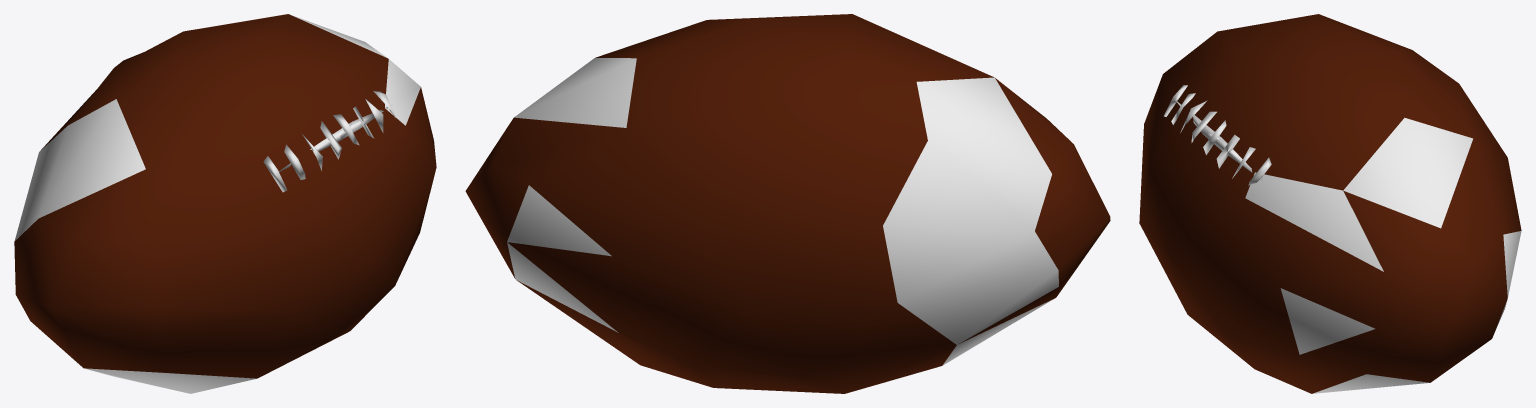
The model's file is football_Collider.fbx.
3 renders of one model, left to right at view 1: azimuth 30°, elevation 25°; view 2: azimuth 150°, elevation 25°; view 3: azimuth 270°, elevation 25°, orthographic. The views are drawn at different scales.
Visible parts, largest first — view 1: football_Collider; view 2: football_Collider; view 3: football_Collider.
Boxes of the visible parts, x1,y1,x2,y2 form: football_Collider: [14, 14, 436, 393]; football_Collider: [465, 14, 1110, 393]; football_Collider: [1139, 14, 1521, 393].
Bounding box in the file's own units: 25.6 × 16.65 × 18.07.
